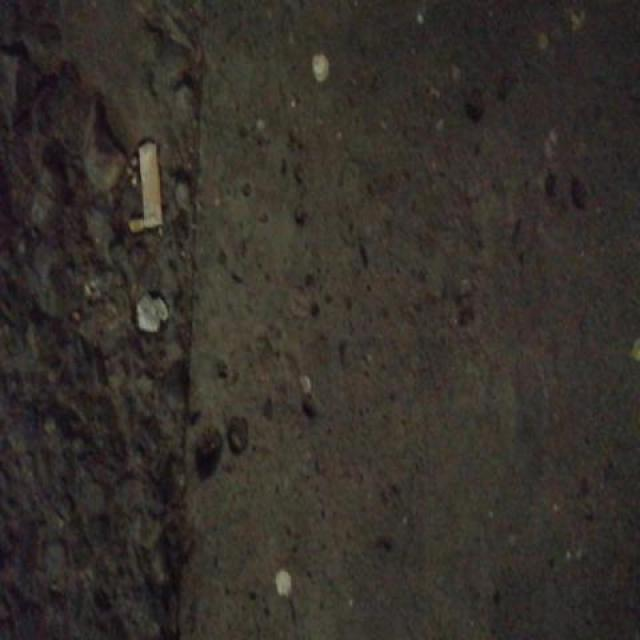non-organic waste: (132, 135, 168, 233)
